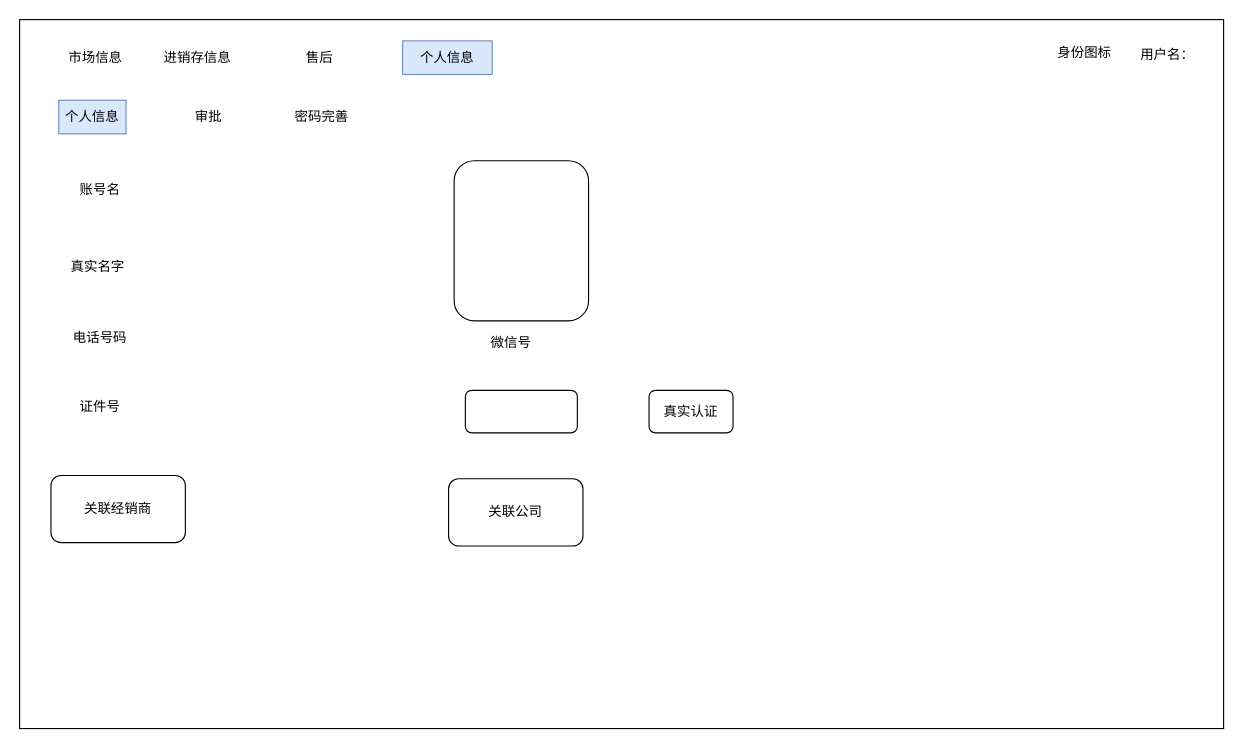
Some shapes in this 1243 by 748 pixel diagram are drawn without their labels. The centre of each missing label's shape, as x and y in pixels:
"人物照片" goes at point (521, 240).
"证件相片上传" goes at point (520, 411).
